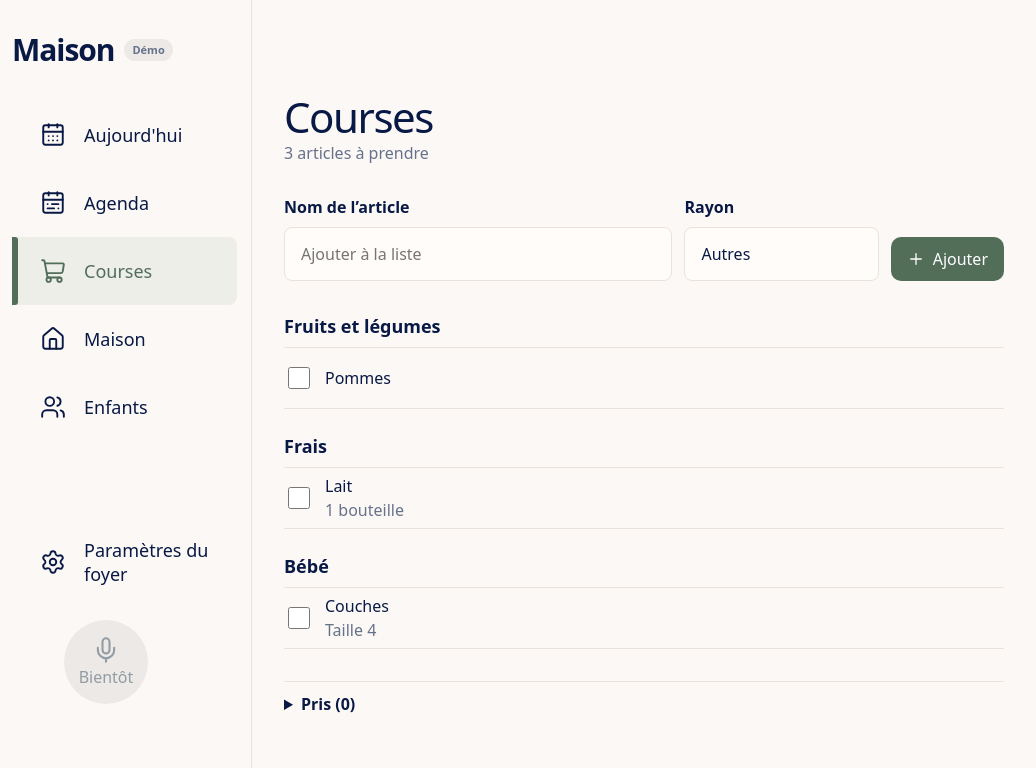
Test case: shows an actionable error and preserves the item after a failed check
The image size is (1036, 768).
Click the checkbox labelled "Lait 1 bouteille" at (299, 498), box [288, 487, 310, 509]
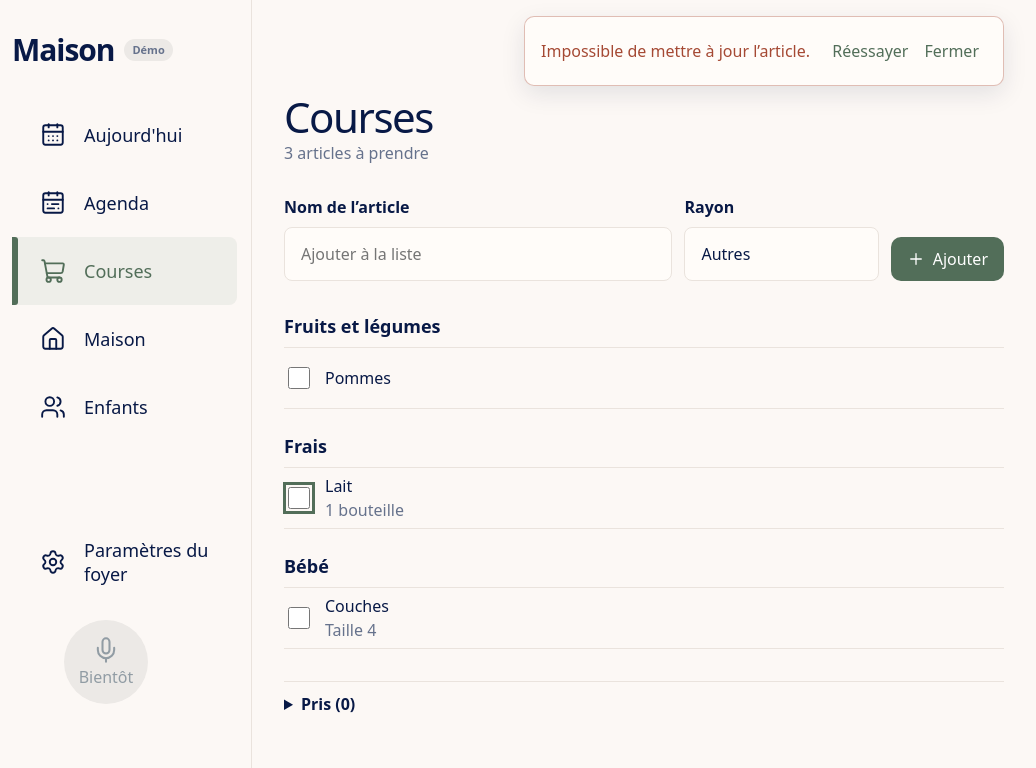
Check: the element named "articles à prendre" shows "Lait", box [325, 475, 352, 497]
Check: the message shows "mettre à jour l’article", box [541, 40, 810, 62]
Click the button "Fermer" at (952, 51), box [916, 29, 987, 73]
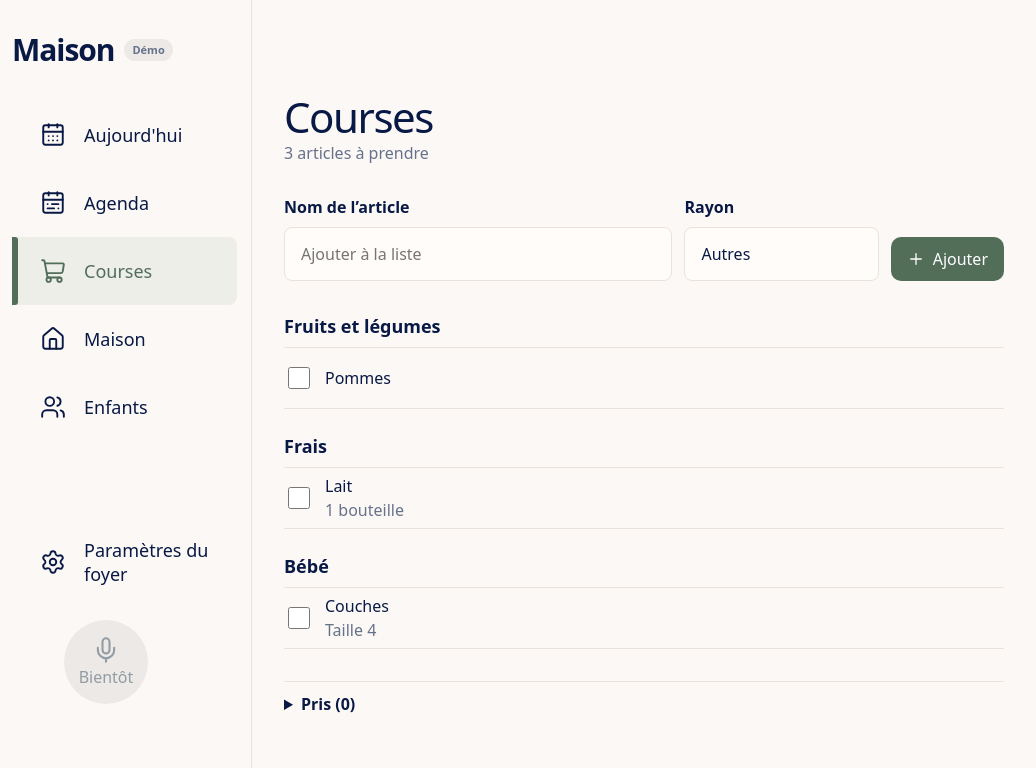
Check: the message "Impossible de mettre à jour l’article. Réessayer Fermer" is gone
